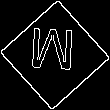M_S: (31, 29, 79, 81)
